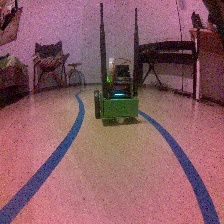rob: (93, 57, 139, 124)
